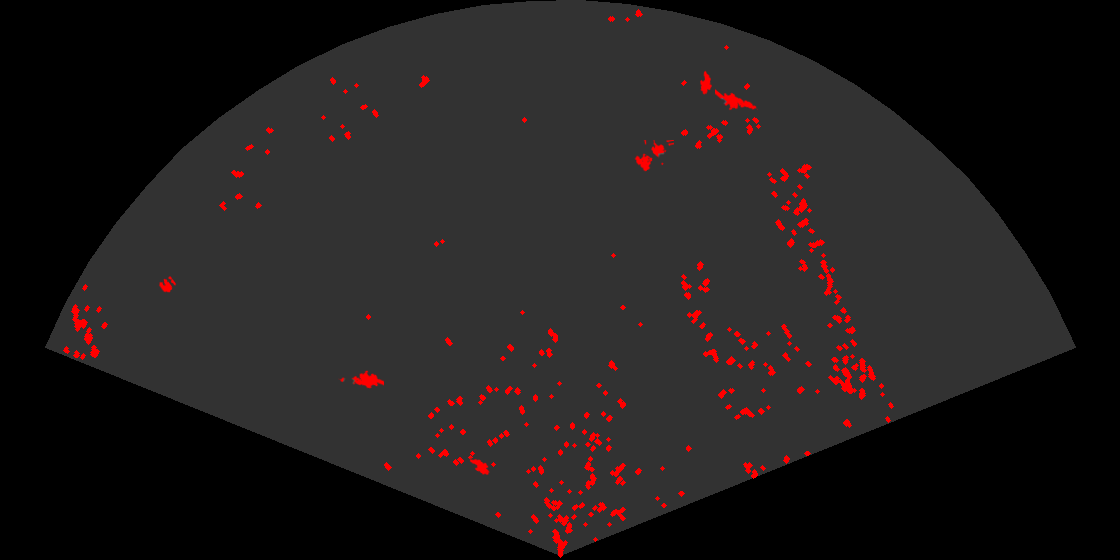AUV: (468, 457, 491, 477), (699, 69, 713, 96)
ball: (157, 275, 178, 294)
cage: (633, 140, 674, 173)
frogman: (715, 87, 758, 112), (338, 369, 384, 390)
